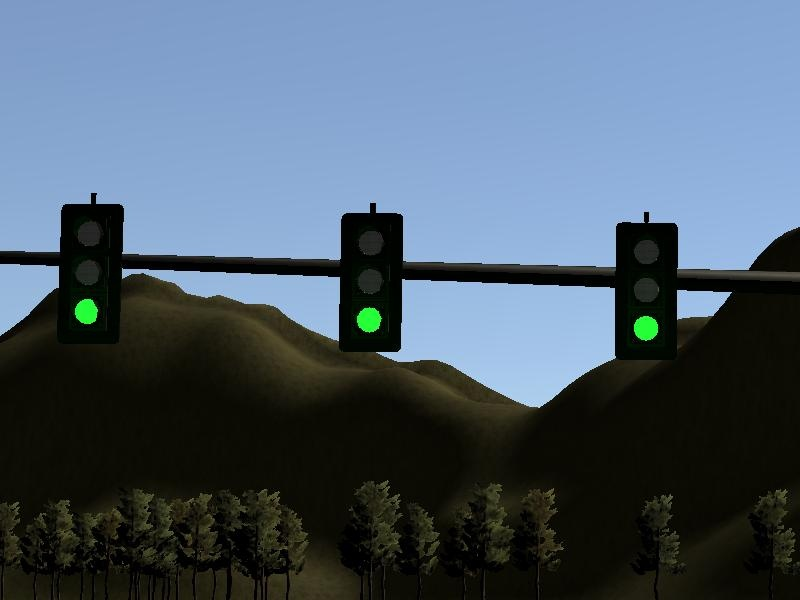GREEN: (611, 219, 681, 368), (335, 210, 404, 355), (58, 202, 123, 340)
